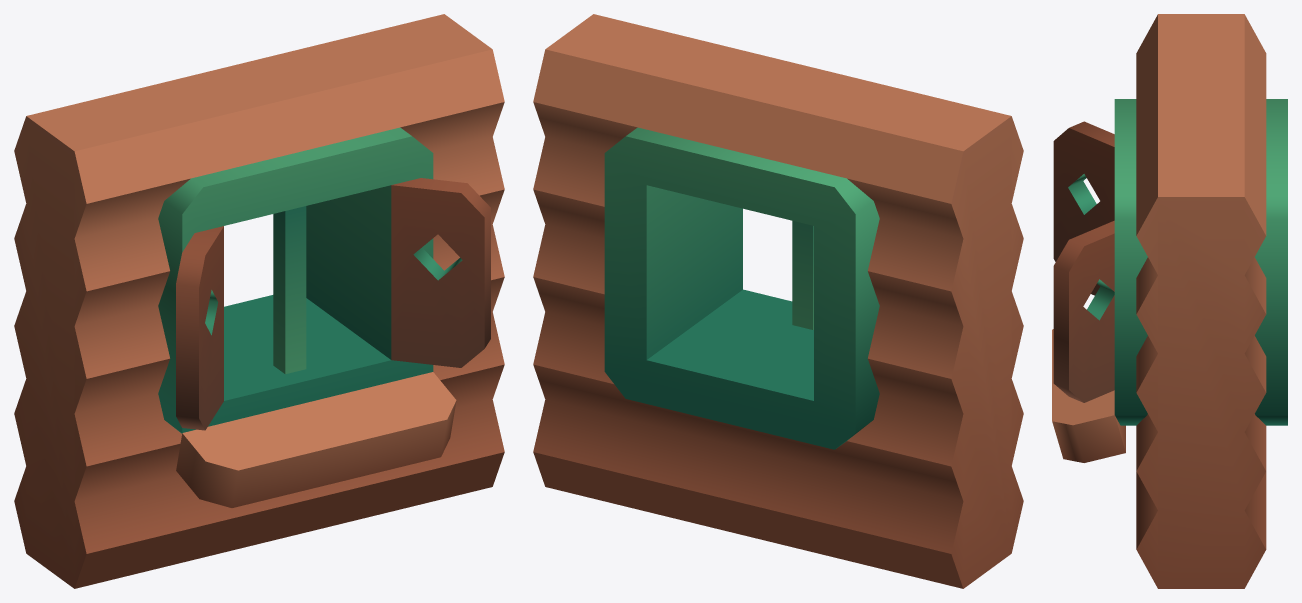
File: cabin-window-c.glb
The picture shows the model from 3 angles, left to right: view 1: azimuth 30°, elevation 25°; view 2: azimuth 150°, elevation 25°; view 3: azimuth 270°, elevation 25°; orthographic projection. The views are drawn at different scales.
Visible parts, largest first — view 1: cabin-window-c; view 2: cabin-window-c; view 3: cabin-window-c.
Part boxes in pixels (x1=…): cabin-window-c: x1=14, y1=14, x2=504, y2=588; cabin-window-c: x1=533, y1=14, x2=1023, y2=588; cabin-window-c: x1=1052, y1=14, x2=1287, y2=588.
Size of the model in its own units: 1 by 1 by 0.5449.
